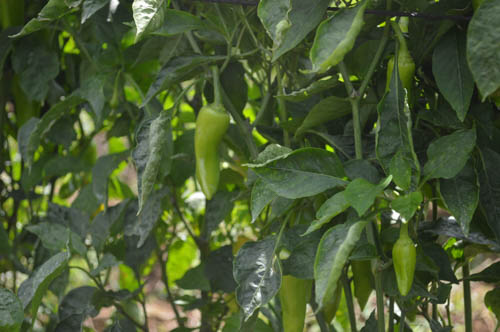ChiliPepper: (194, 107, 227, 203), (277, 277, 309, 329), (394, 240, 414, 296), (383, 60, 415, 94)
